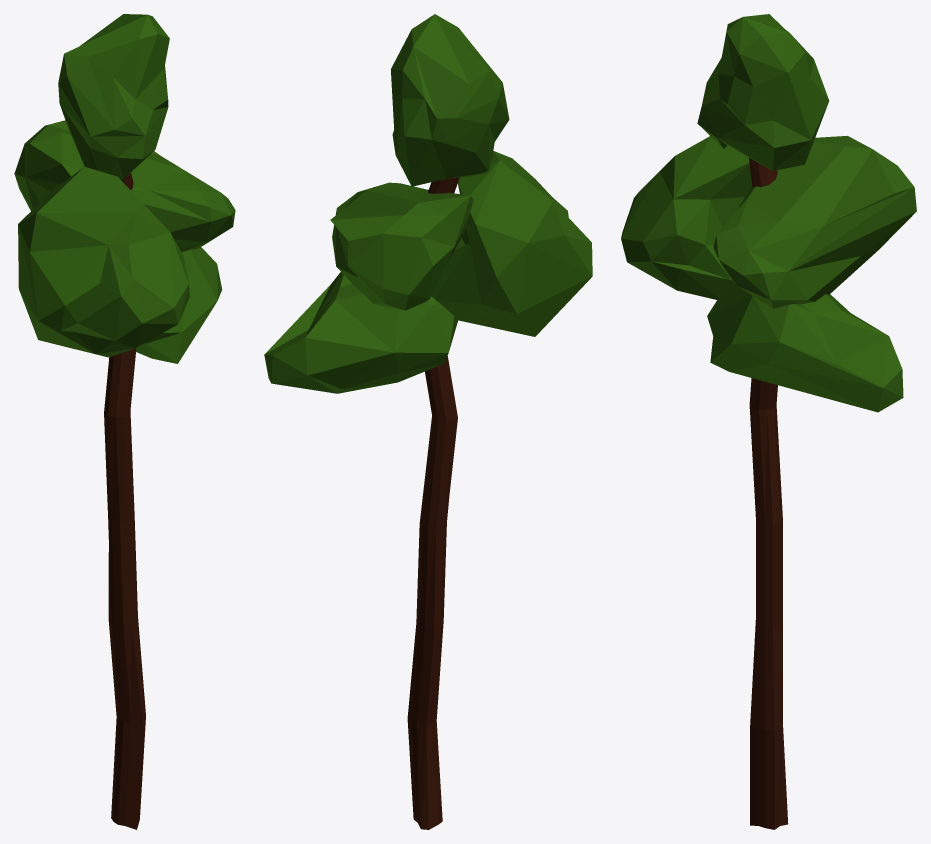
Rendered from Pine4.obj.
3 views of the same model, side by side, from view 1: azimuth 30°, elevation 25°; view 2: azimuth 150°, elevation 25°; view 3: azimuth 270°, elevation 25° (orthographic). The views are drawn at different scales.
Parts seen in each view (by area): view 1: Cylinder.005; view 2: Cylinder.005; view 3: Cylinder.005.
Part boxes in pixels (x1,y1,x2,y2): Cylinder.005: (14, 14, 235, 829); Cylinder.005: (264, 14, 592, 829); Cylinder.005: (621, 14, 916, 829).
Size of the model in its own units: 10.93 by 35.58 by 11.75.
